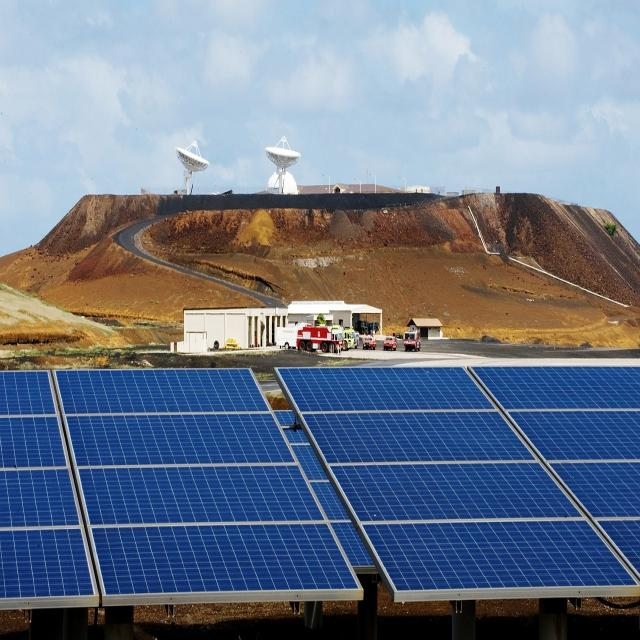clean-solar-panel: (0, 363, 640, 599)
